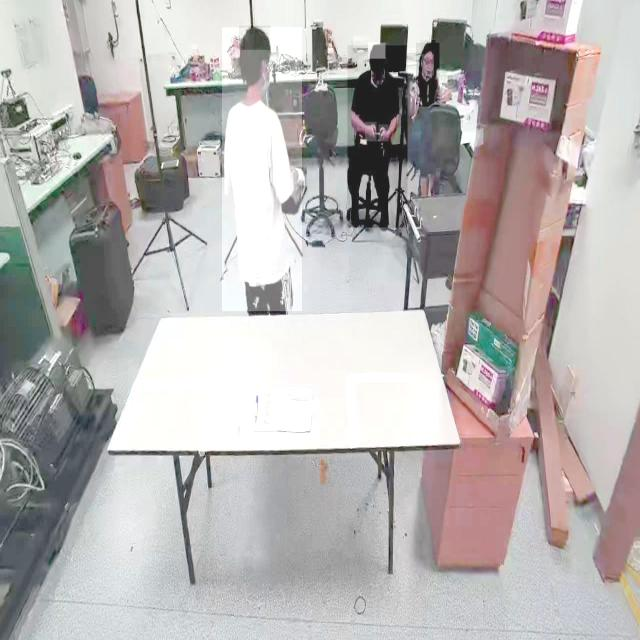face_nomask: (422, 54, 434, 76)
hand_noglove: (365, 122, 377, 142), (379, 124, 389, 142)
head_nohelmet: (239, 26, 271, 50), (368, 42, 386, 59), (420, 40, 436, 53)
person: (222, 28, 302, 312), (348, 45, 408, 228), (416, 42, 440, 108)
shoes: (373, 203, 392, 233), (346, 196, 362, 230)
